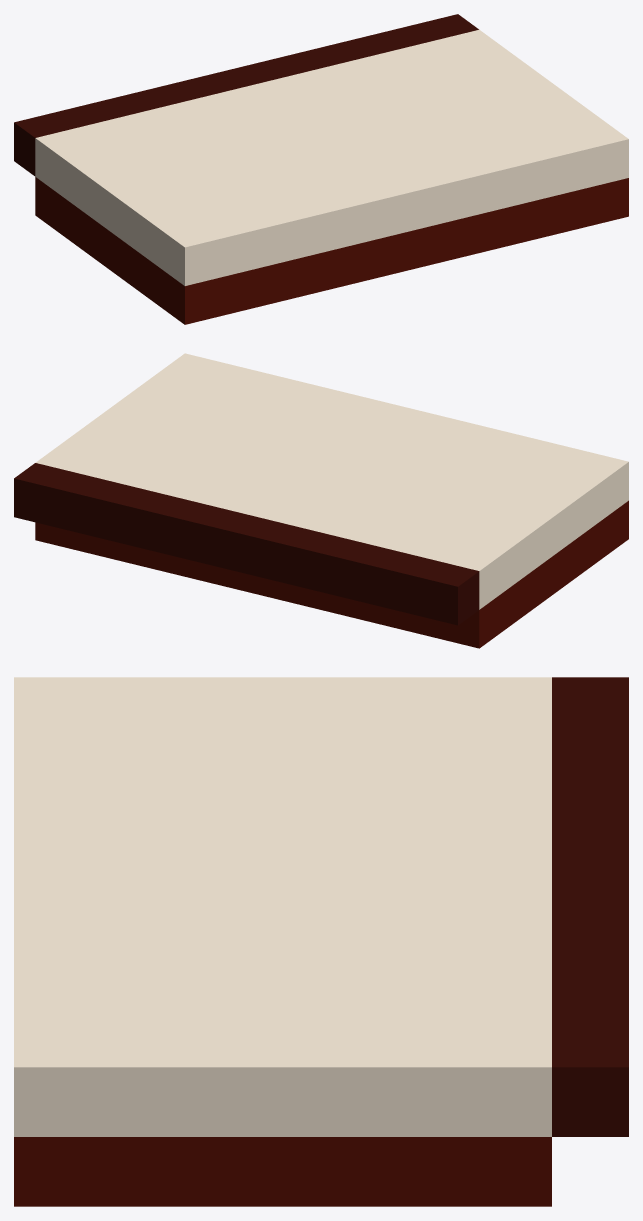
File: Book1.obj
3 views of the same model, one above another, from view 1: azimuth 30°, elevation 25°; view 2: azimuth 150°, elevation 25°; view 3: azimuth 270°, elevation 25° (orthographic). The views are drawn at different scales.
Parts seen in each view (by area): view 1: Book1; view 2: Book1; view 3: Book1.
Boxes of the visible parts, x1,y1,x2,y2 form: Book1: [14, 14, 628, 324]; Book1: [14, 353, 628, 648]; Book1: [14, 677, 628, 1206].
Bounding box in the file's own units: 12 × 2 × 8.
1 material, 1 textured.
